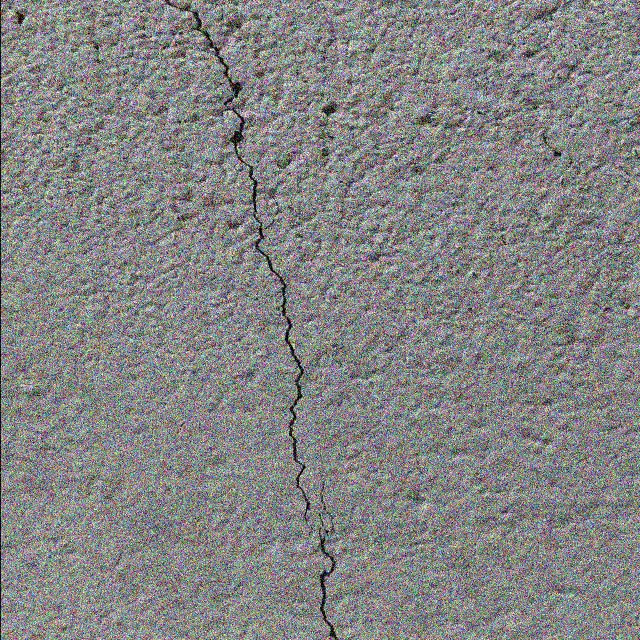SurfaceCrack: (156, 1, 389, 640)
